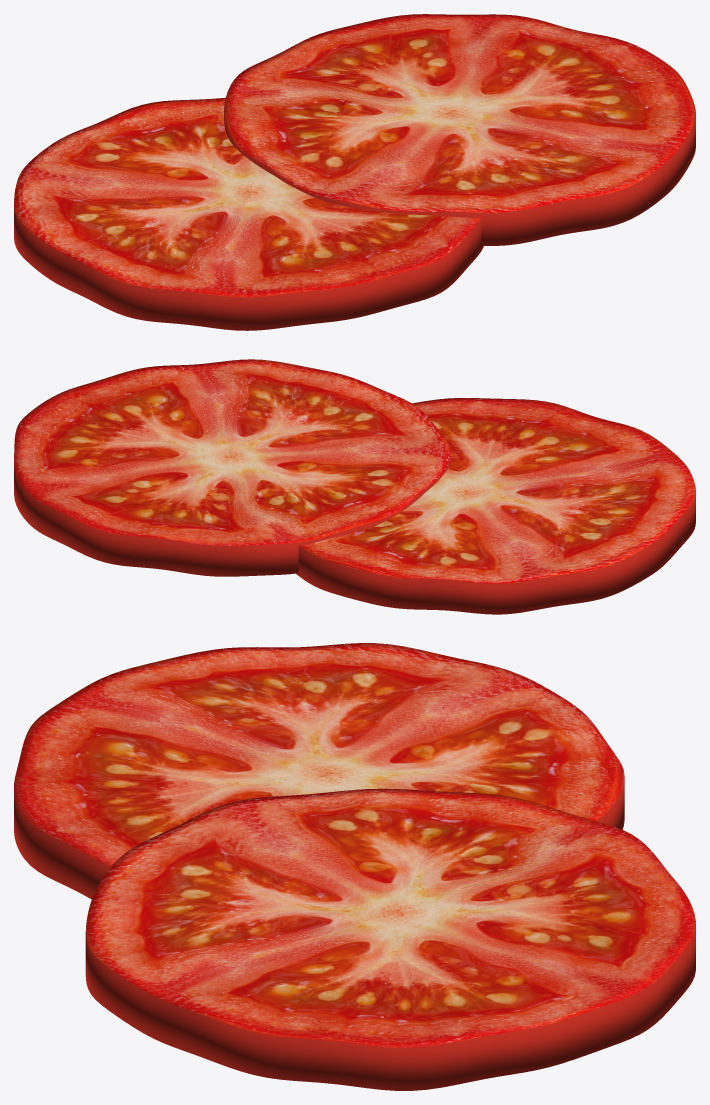
File: tomato.glb
The picture shows the model from 3 angles, top to bottom: view 1: azimuth 30°, elevation 25°; view 2: azimuth 150°, elevation 25°; view 3: azimuth 270°, elevation 25°; orthographic projection. The views are drawn at different scales.
Visible parts, largest first — view 1: Tomato slice 2, Tomato slice 1; view 2: Tomato slice 2, Tomato slice 1; view 3: Tomato slice 2, Tomato slice 1.
Boxes of the visible parts, box(x1,y1,x2,y2) form: Tomato slice 2: box(224, 14, 695, 245); Tomato slice 1: box(14, 97, 483, 330); Tomato slice 2: box(14, 359, 450, 576); Tomato slice 1: box(296, 398, 695, 614); Tomato slice 2: box(85, 788, 695, 1090); Tomato slice 1: box(14, 643, 624, 899).
Bounding box in the file's own units: 2.35 × 0.1392 × 1.66.
Materials: 2 (1 with a texture image).
